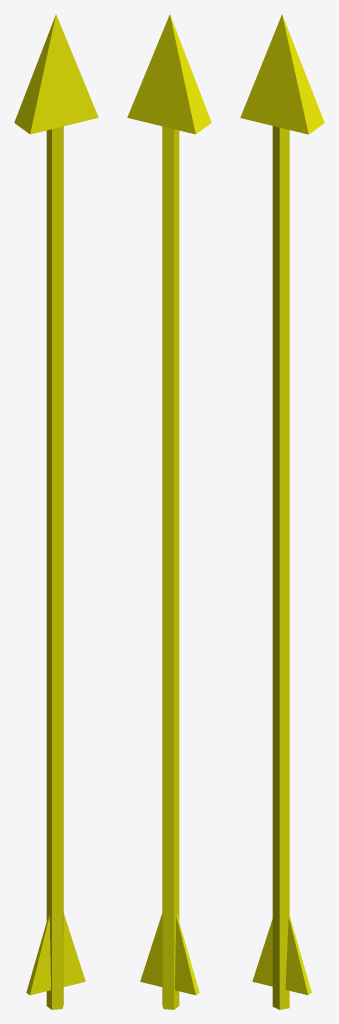
File: _arrow_b_2.glb
3 views of the same model, side by side, from view 1: azimuth 30°, elevation 25°; view 2: azimuth 150°, elevation 25°; view 3: azimuth 330°, elevation 25° (orthographic).
Visible parts, largest first — view 1: arrow_b_2; view 2: arrow_b_2; view 3: arrow_b_2.
Part boxes in pixels (x1,y1,x2,y2): arrow_b_2: (14,14,98,1009); arrow_b_2: (127,14,211,1009); arrow_b_2: (240,14,324,1009).
Bounding box in the file's own units: 1498 × 20689 × 604.
